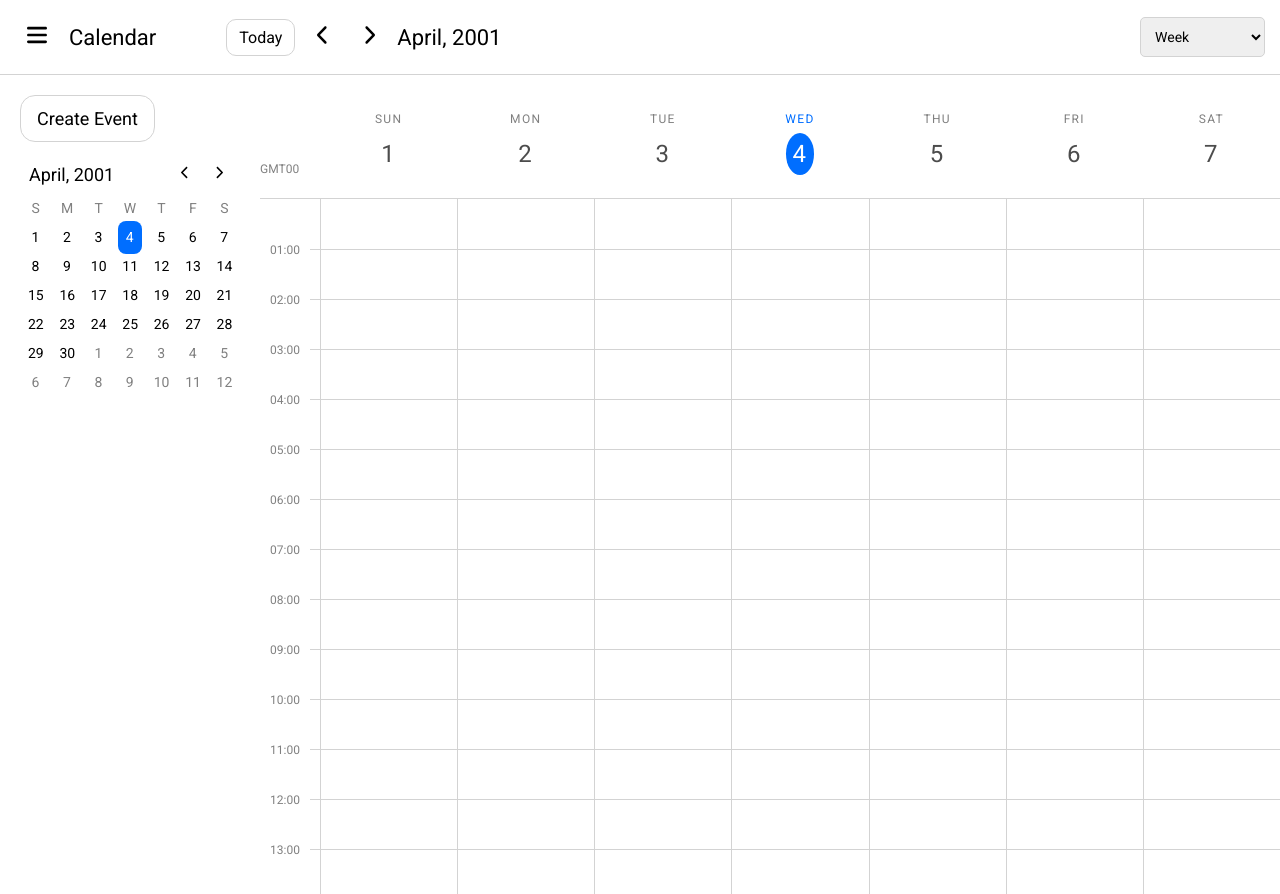
Test case: sidebarCalendar › rerenders when sidebar calendar timeframe is changed › backwards
Click the button with test id "prevMonthButton": coordinates (185, 174) [173,162,197,186]
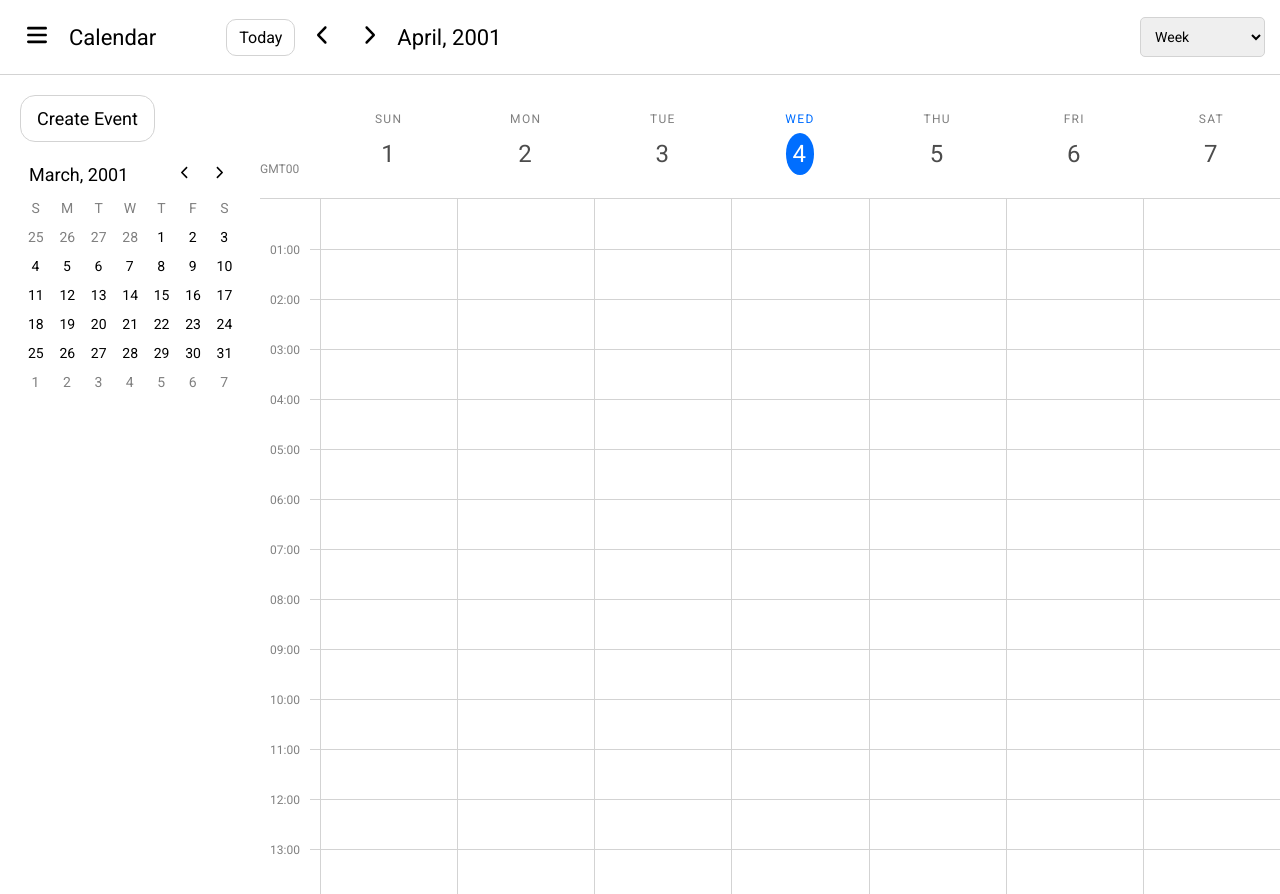
expect the heading with test id "sidebarCalendarDate" reads "March, 2001": met, box [29,164,128,184]
